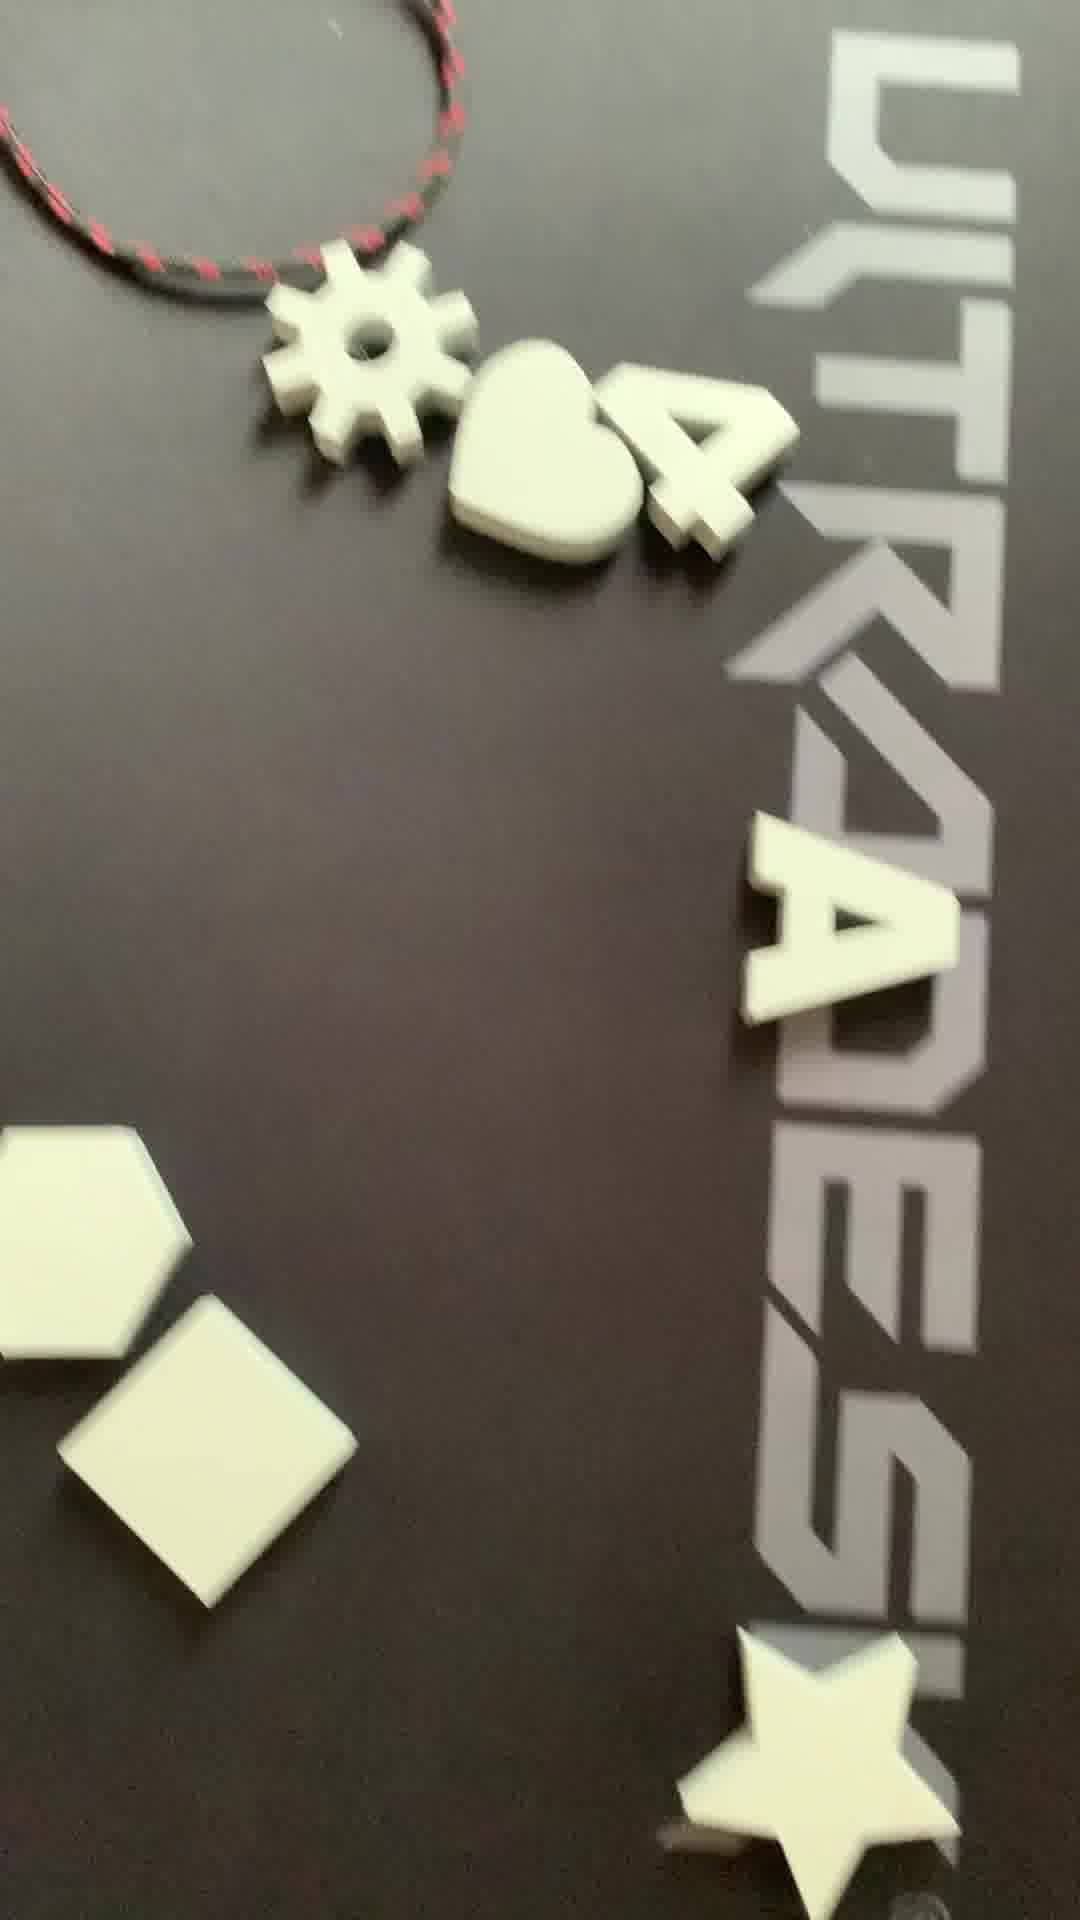Gray A-letter: (741, 810, 963, 1052)
Gray four: (600, 348, 818, 563)
Gray gear: (272, 240, 483, 467)
Gray heart: (435, 330, 651, 575)
Gray hexagon: (1, 1116, 222, 1364)
Gray square: (44, 1303, 371, 1610)
Gray star: (670, 1606, 968, 1903)
